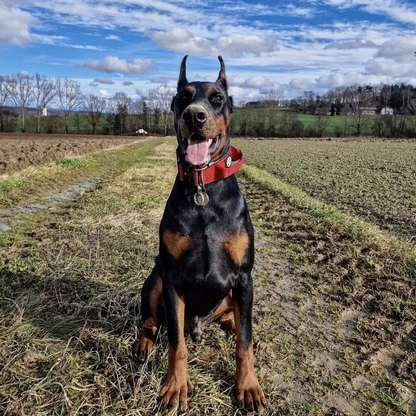doberman: (139, 56, 273, 414)
